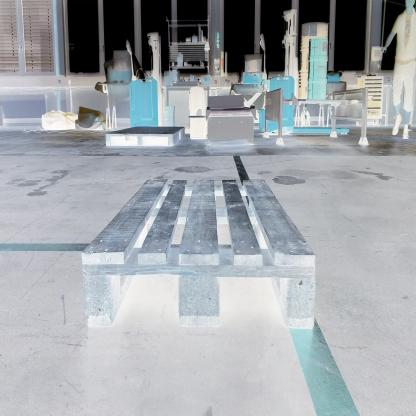BoxFace: (79, 174, 320, 331), (104, 123, 188, 151)
